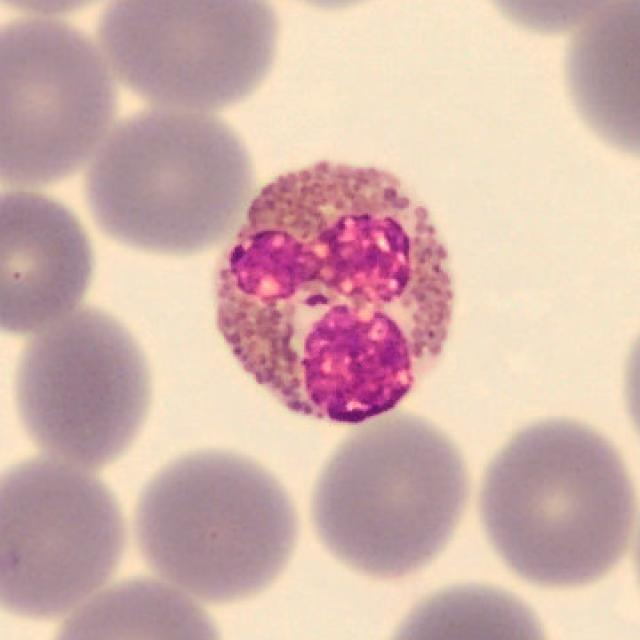Eosinofilo: (215, 162, 455, 425)
